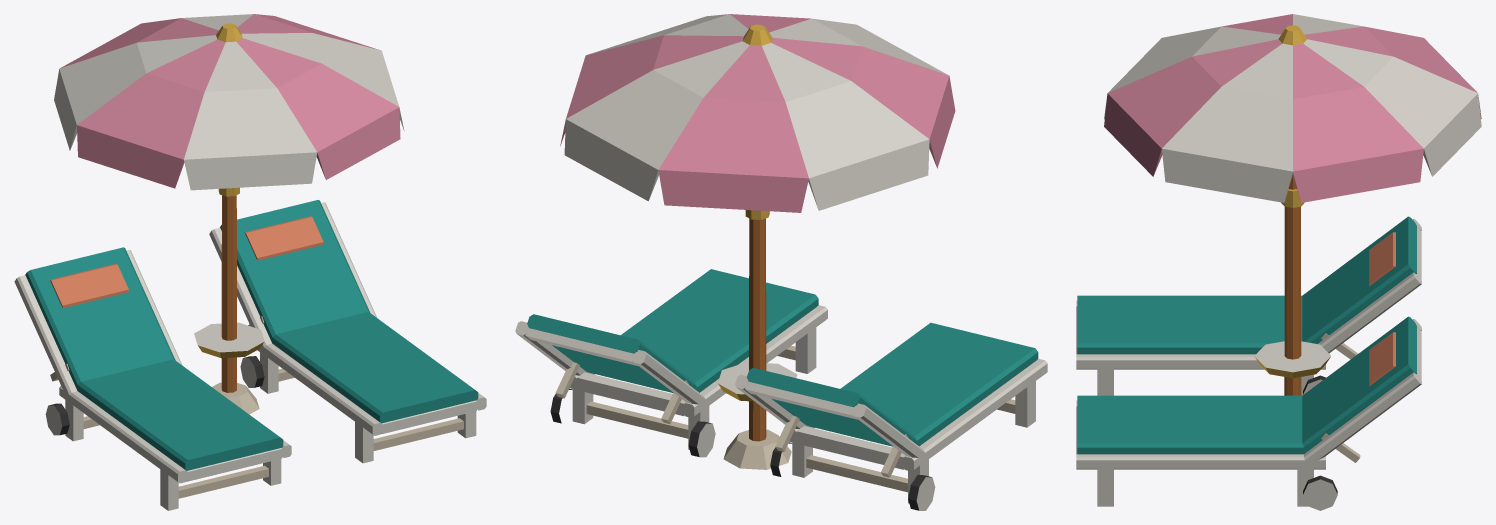
Rendered from sezlong_semsiye.glb.
3 renders of one model, left to right at view 1: azimuth 30°, elevation 25°; view 2: azimuth 150°, elevation 25°; view 3: azimuth 270°, elevation 25°, orthographic. The views are drawn at different scales.
Parts seen in each view (by area): view 1: sezlong_semsiye; view 2: sezlong_semsiye; view 3: sezlong_semsiye.
Boxes of the visible parts, x1,y1,x2,y2 form: sezlong_semsiye: (14, 14, 486, 510); sezlong_semsiye: (515, 14, 1047, 510); sezlong_semsiye: (1076, 14, 1481, 510).
Bounding box in the file's own units: 2.15 × 2.4 × 2.21.
